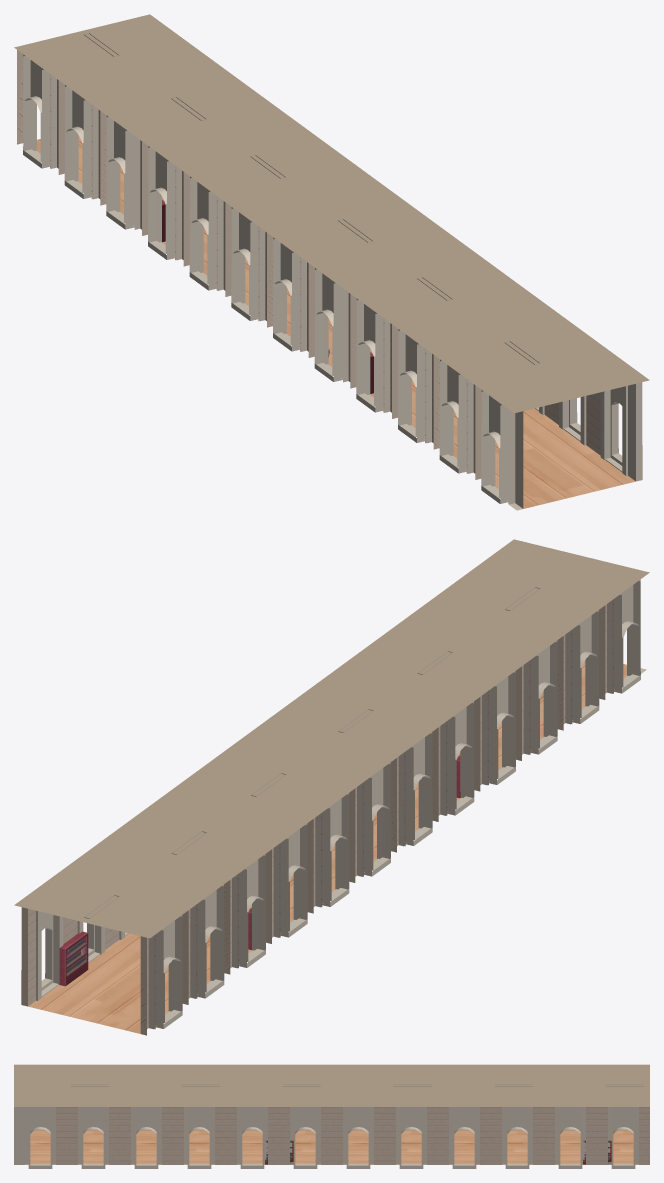
File: SchoolBoss.fbx
3 views of the same model, one above another, from view 1: azimuth 30°, elevation 25°; view 2: azimuth 150°, elevation 25°; view 3: azimuth 270°, elevation 25° (orthographic). The views are drawn at different scales.
Parts seen in each view (by area): view 1: SchoolBoss; view 2: SchoolBoss; view 3: SchoolBoss.
Boxes of the visible parts, x1,y1,x2,y2 form: SchoolBoss: (14, 14, 649, 510); SchoolBoss: (14, 539, 649, 1035); SchoolBoss: (14, 1064, 649, 1168).
Size of the model in its own units: 4792 by 3291 by 30000.
